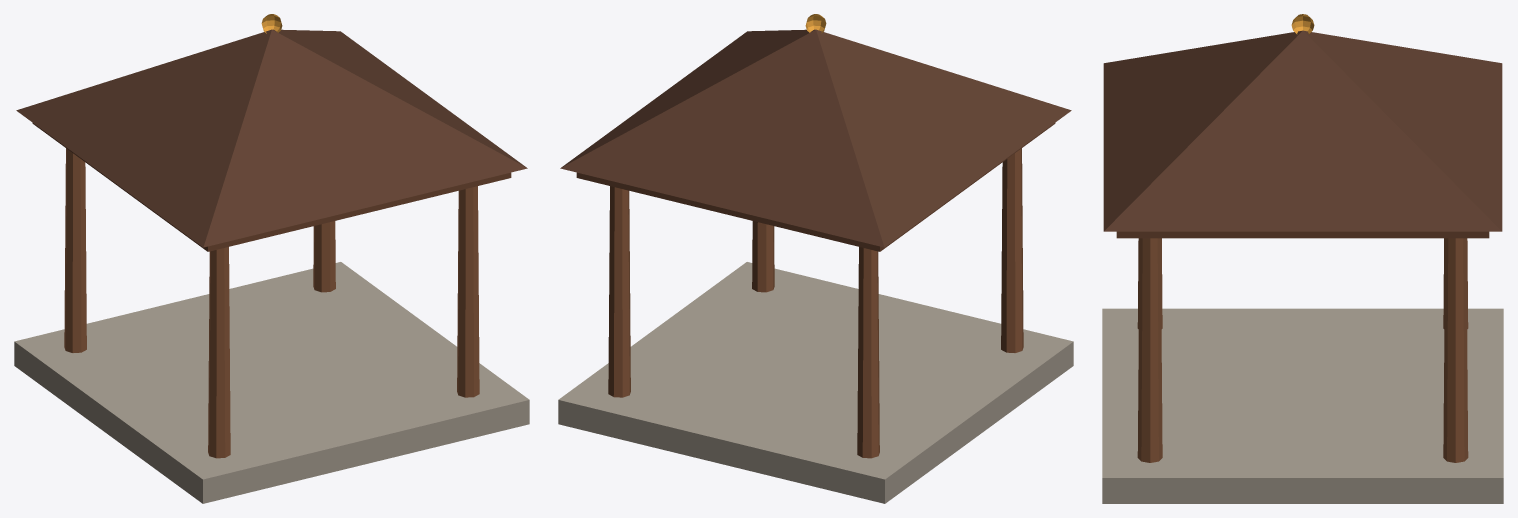
The model's file is pavilion.glb.
The picture shows the model from 3 angles, left to right: view 1: azimuth 30°, elevation 25°; view 2: azimuth 150°, elevation 25°; view 3: azimuth 270°, elevation 25°; orthographic projection. The views are drawn at different scales.
Visible parts, largest first — view 1: platform, roof, column-2, column-1, column-4, rim, column-3; view 2: platform, roof, column-4, column-3, column-2, rim, column-1; view 3: roof, platform, column-1, column-3, rim.
Part boxes in pixels (<box>): platform: <box>14,262,529,503</box>; roof: <box>16,29,527,247</box>; column-2: <box>208,247,230,458</box>; column-1: <box>457,186,479,397</box>; column-4: <box>64,148,86,352</box>; rim: <box>32,123,511,251</box>; column-3: <box>313,221,335,292</box>; platform: <box>558,262,1073,503</box>; roof: <box>560,29,1071,247</box>; column-4: <box>857,247,879,458</box>; column-3: <box>608,186,630,397</box>; column-2: <box>1001,148,1023,352</box>; rim: <box>576,123,1055,251</box>; column-1: <box>752,221,774,292</box>; roof: <box>1103,30,1502,231</box>; platform: <box>1102,308,1503,503</box>; column-1: <box>1137,238,1162,462</box>; column-3: <box>1443,238,1468,462</box>; rim: <box>1116,231,1489,238</box>.
Size of the model in its own units: 4.2 by 4.67 by 4.2.
